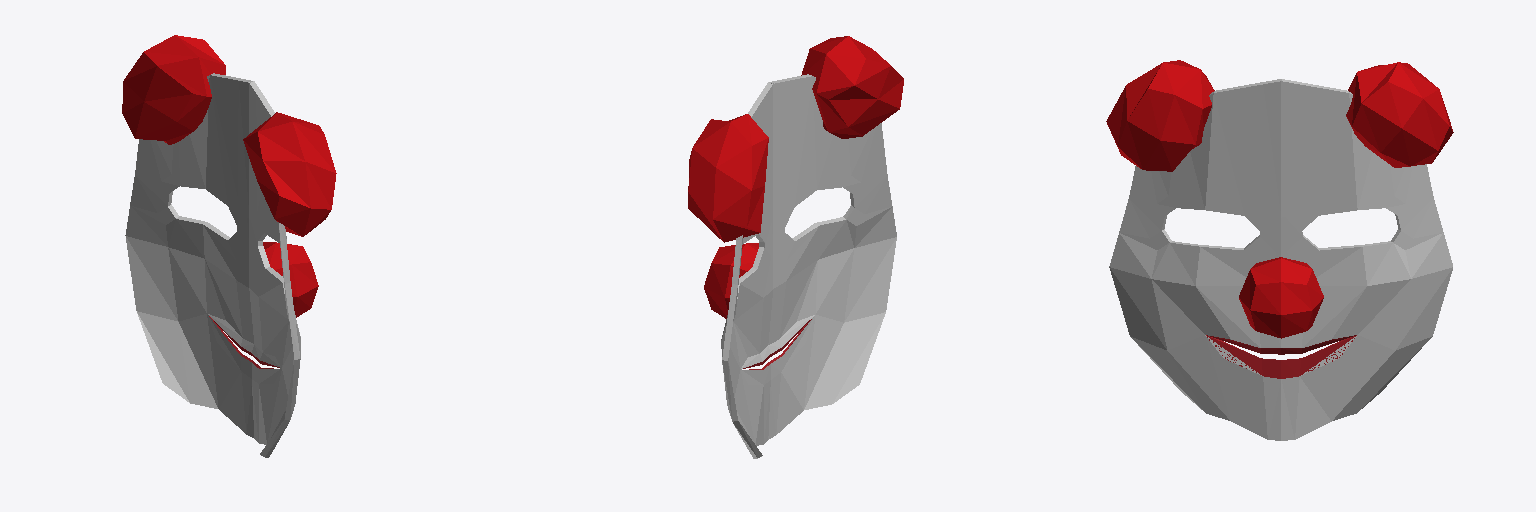
File: ClownMask.obj
3 views of the same model, side by side, from view 1: azimuth 30°, elevation 25°; view 2: azimuth 150°, elevation 25°; view 3: azimuth 270°, elevation 25° (orthographic).
Parts seen in each view (by area): view 1: Clown_Mask_Plane; view 2: Clown_Mask_Plane; view 3: Clown_Mask_Plane.
Part boxes in pixels (x1,y1,x2,y2): Clown_Mask_Plane: (122,35,336,457); Clown_Mask_Plane: (688,36,903,458); Clown_Mask_Plane: (1106,60,1453,440).
Size of the model in its own units: 0.2822 by 0.8477 by 0.7294.